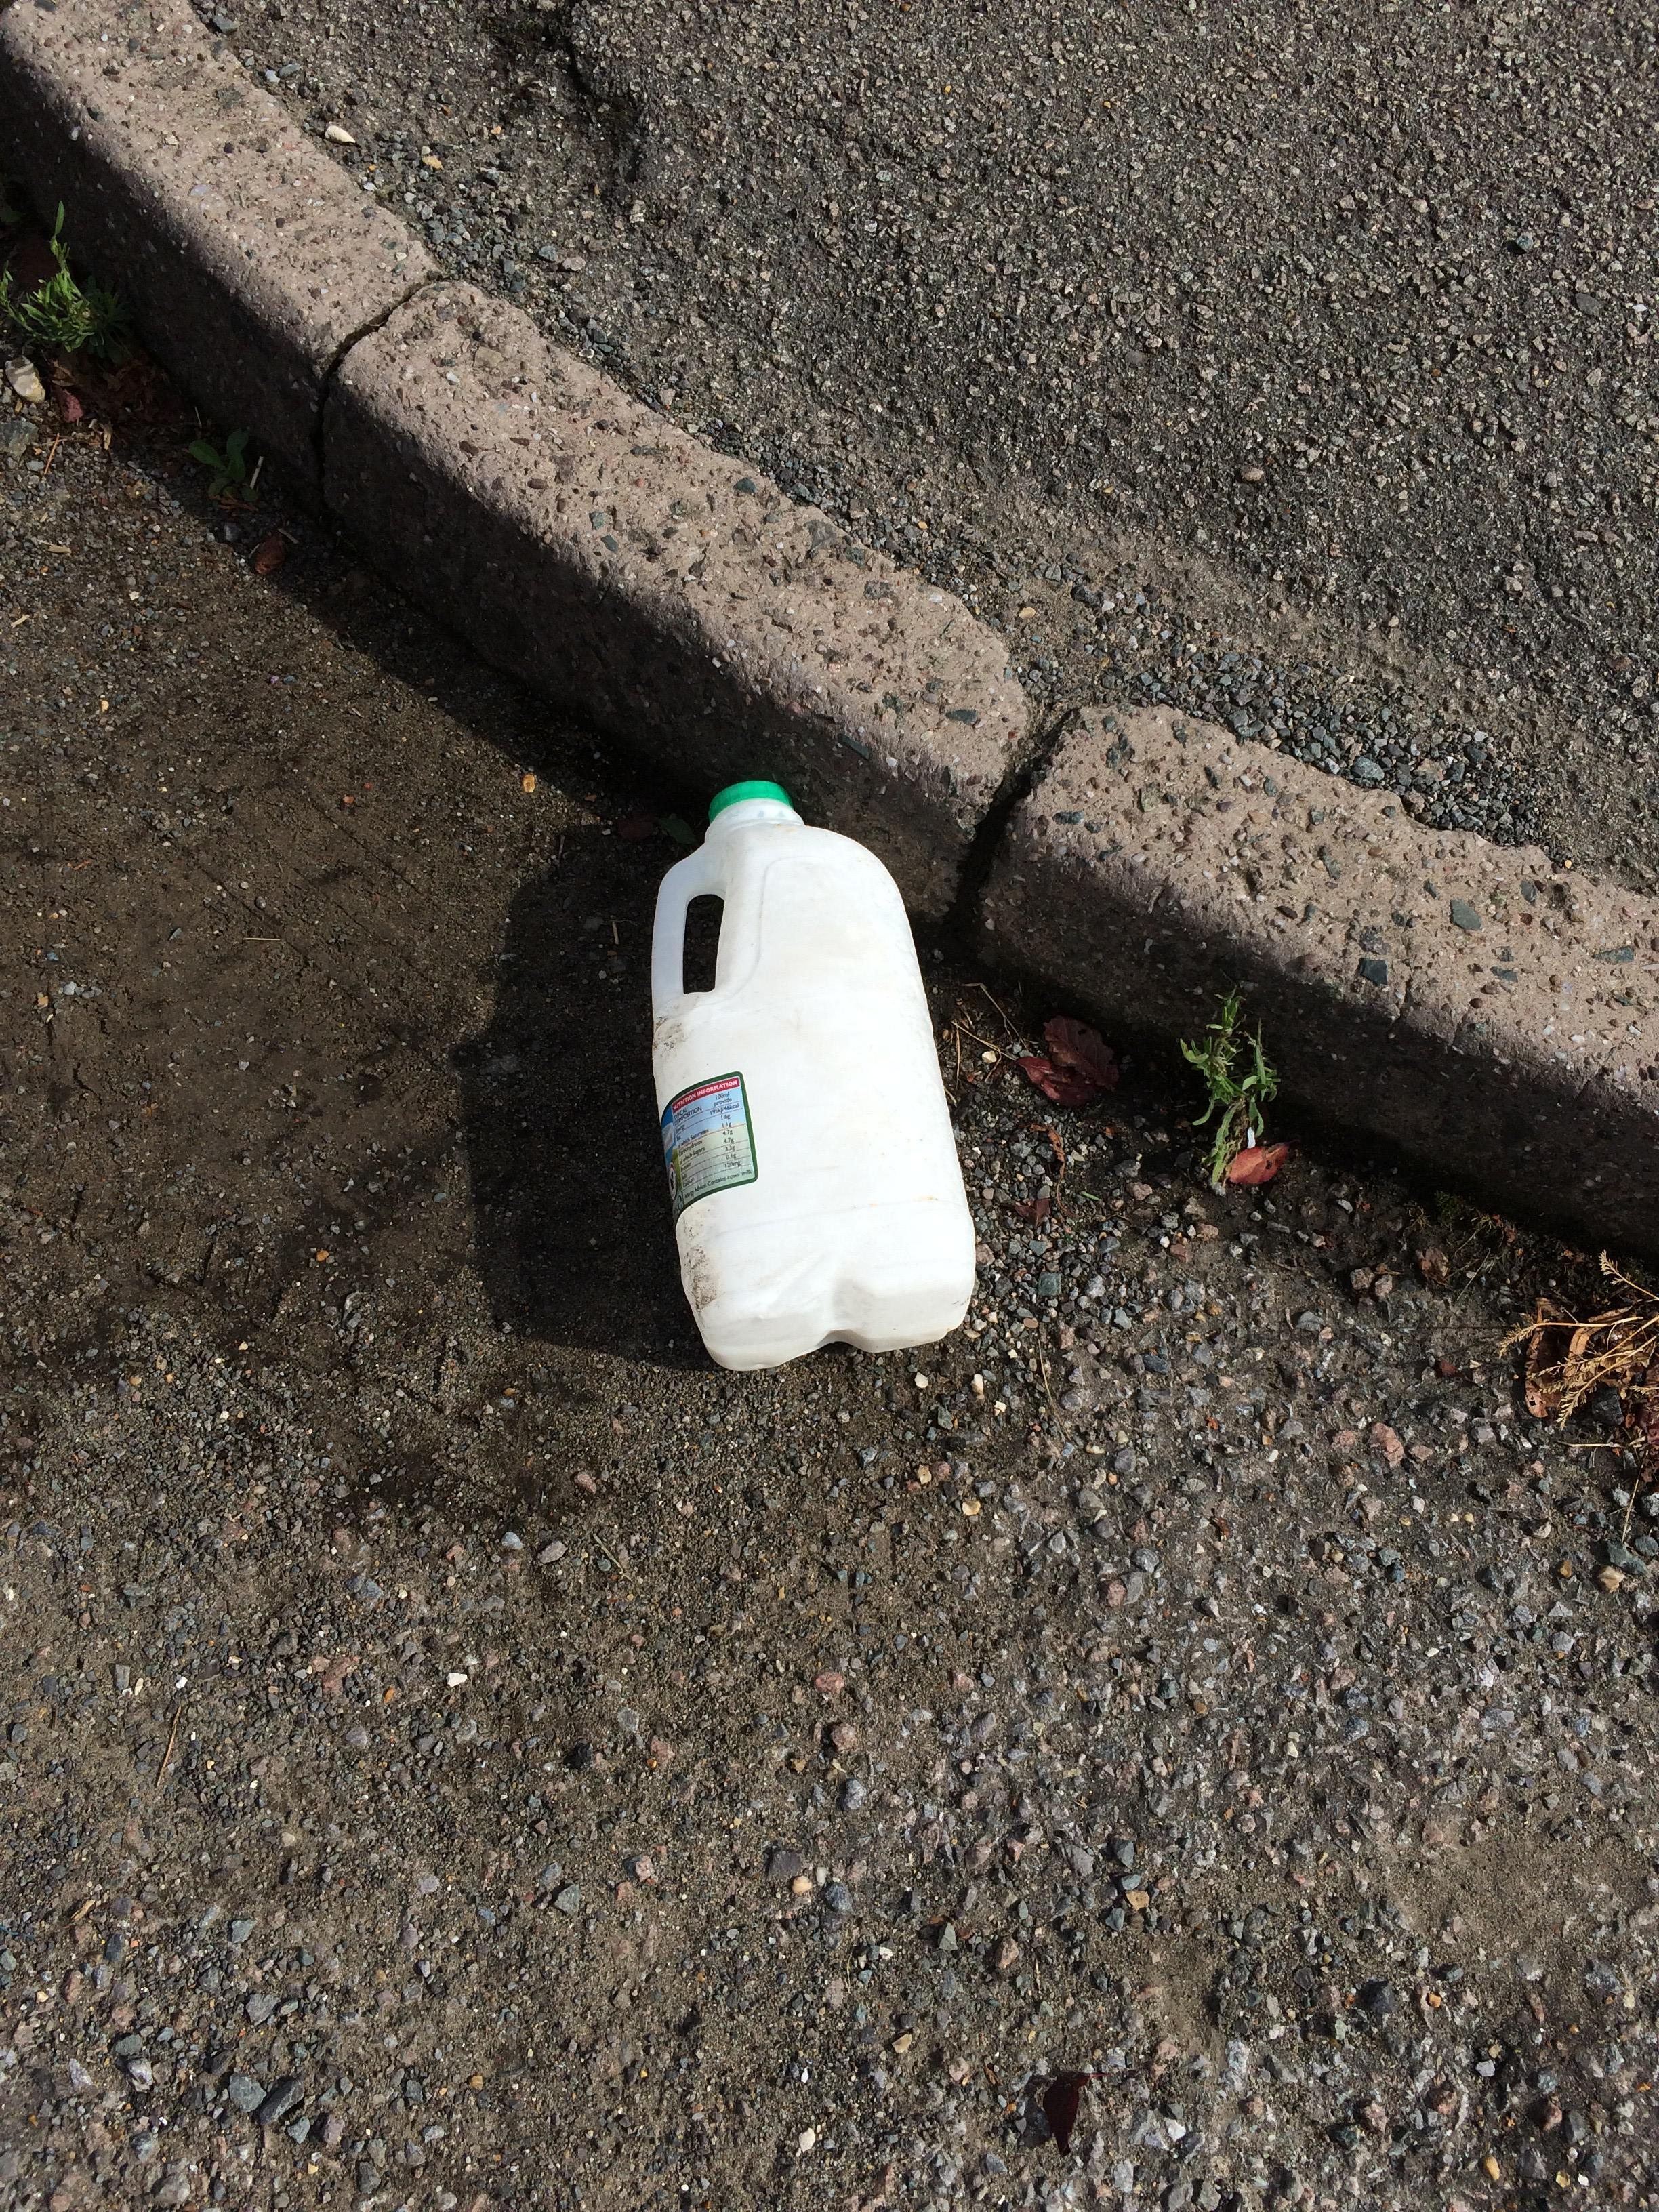Trash: (629, 770, 990, 1381)
